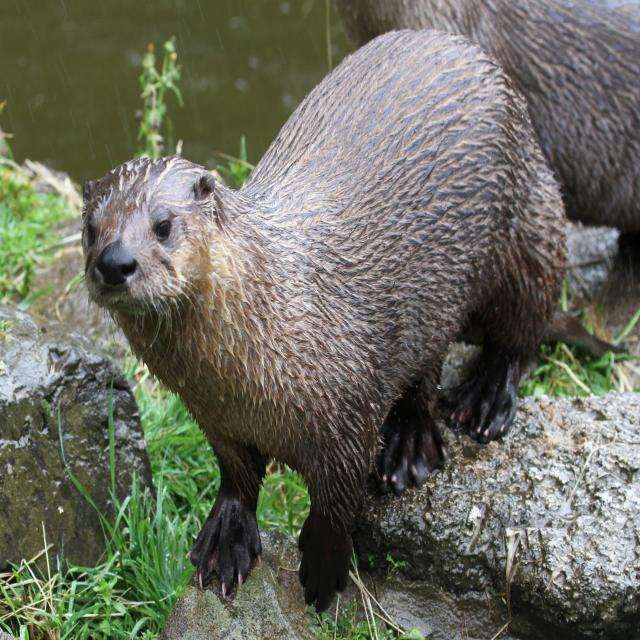otter: (83, 29, 568, 608)
